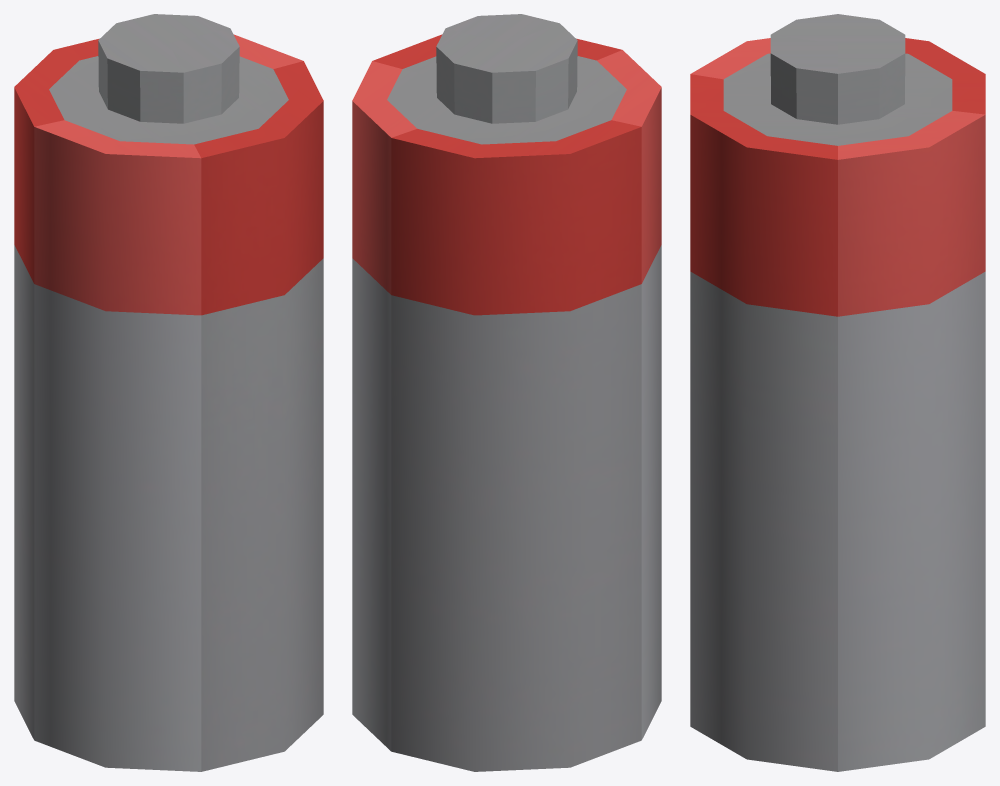
The model's file is SM_Battery01.fbx.
3 renders of one model, left to right at view 1: azimuth 30°, elevation 25°; view 2: azimuth 150°, elevation 25°; view 3: azimuth 270°, elevation 25°, orthographic.
Visible parts, largest first — view 1: SM_Battery01; view 2: SM_Battery01; view 3: SM_Battery01.
Part boxes in pixels (x1=…): SM_Battery01: x1=14, y1=14, x2=323, y2=771; SM_Battery01: x1=352, y1=14, x2=661, y2=771; SM_Battery01: x1=690, y1=14, x2=985, y2=771.
Bounding box in the file's own units: 11.74 × 27.63 × 11.16.
